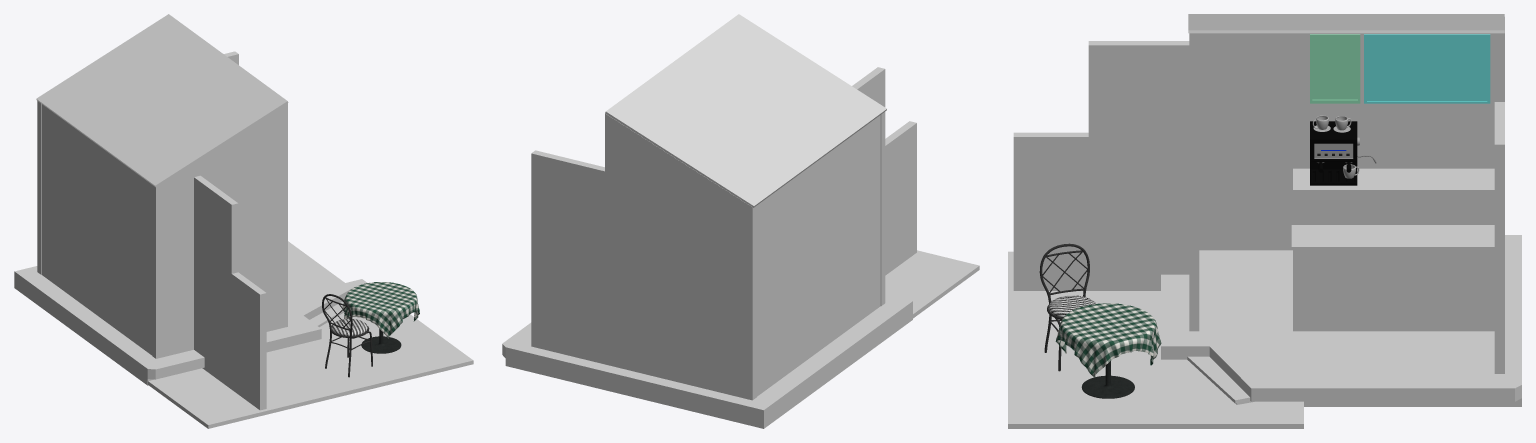
Rendered from mymodel1.glb.
3 views of the same model, side by side, from view 1: azimuth 30°, elevation 25°; view 2: azimuth 150°, elevation 25°; view 3: azimuth 270°, elevation 25° (orthographic). The views are drawn at different scales.
Parts seen in each view (by area): view 1: Plane.004, Wall-B, Wall-L, Plane.003, Plane.001, Wall-B.001, Wall-B.002, Wall-R.002, Table_DinnerTableMAT_0, chair_dinette_01, Wall-R; view 2: Wall-R, Plane.004, Wall-B, Wall-R.001, Plane.001, Wall-R.003, Wall-B.002, Plane.003, Wall-L, Wall-B.001; view 3: Plane.001, Wall-B, Wall-B.001, counter1, Plane.003, Wall-B.002, counter1.001, Plane.005, Plane.004, Table_DinnerTableMAT_0, Plane, Wall-R.001 (+6 smaller).
Part boxes in pixels (box(x1,y1,x2,y2)): Plane.004: box(36, 14, 288, 187); Wall-B: box(41, 104, 152, 355); Wall-L: box(152, 154, 287, 358); Plane.003: box(148, 279, 473, 428); Plane.001: box(14, 241, 352, 385); Wall-B.001: box(194, 175, 238, 389); Wall-B.002: box(231, 272, 266, 410); Wall-R.002: box(159, 103, 287, 185); Table_DinnerTableMAT_0: box(342, 282, 419, 353); chair_dinette_01: box(322, 294, 372, 377); Wall-R: box(37, 101, 41, 274); Wall-R: box(605, 171, 756, 400); Plane.004: box(605, 14, 886, 207); Wall-B: box(757, 115, 880, 396); Wall-R.001: box(531, 150, 604, 364); Plane.001: box(502, 291, 912, 428); Wall-R.003: box(605, 113, 751, 207); Wall-B.002: box(885, 121, 916, 275); Plane.003: box(885, 250, 979, 318); Wall-L: box(880, 112, 885, 305); Wall-B.001: box(852, 67, 885, 106); Plane.001: box(1161, 235, 1521, 406); Wall-B: box(1199, 33, 1494, 250); Wall-B.001: box(1088, 41, 1189, 290); counter1: box(1291, 225, 1494, 331); Plane.003: box(1008, 251, 1303, 428); Wall-B.002: box(1013, 132, 1089, 290); counter1.001: box(1293, 168, 1494, 224); Plane.005: box(1364, 34, 1490, 103); Plane.004: box(1188, 14, 1504, 33); Table_DinnerTableMAT_0: box(1055, 303, 1161, 398); Plane: box(1310, 34, 1360, 103); Wall-R.001: box(1494, 102, 1504, 373).
Size of the model in its own units: 16.12 by 14.08 by 20.31.
11 materials, 2 textured.
